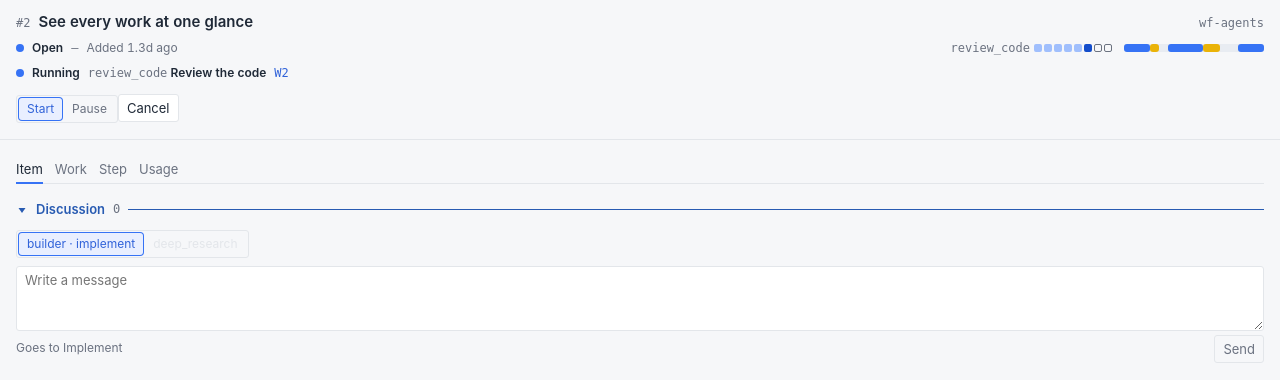
Test: the panel of the item selected › sends what the owner does once: its buttons wait while it is under way
Later steps or results of the test are not shown.
Click the button "Pause" at (90, 109), box [64,98,115,120]
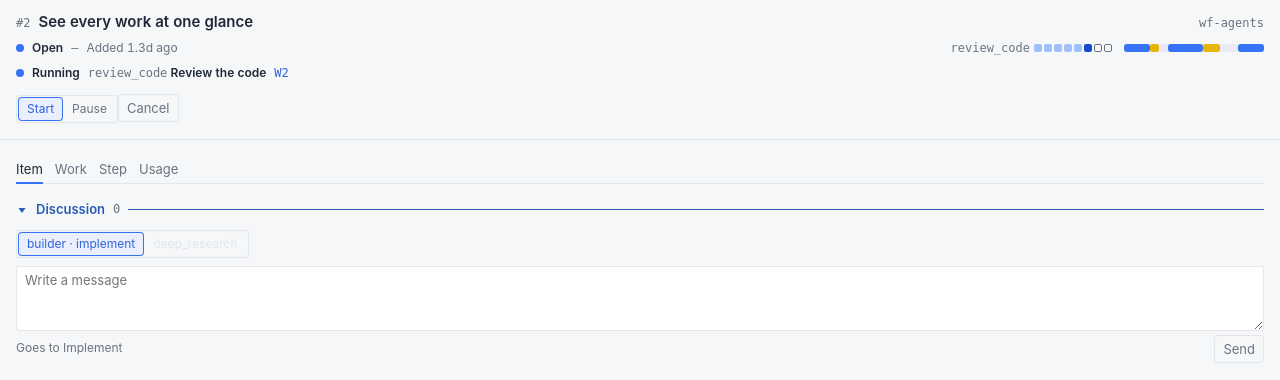
Click the button "Pause" at (90, 109), box [64,98,115,120]
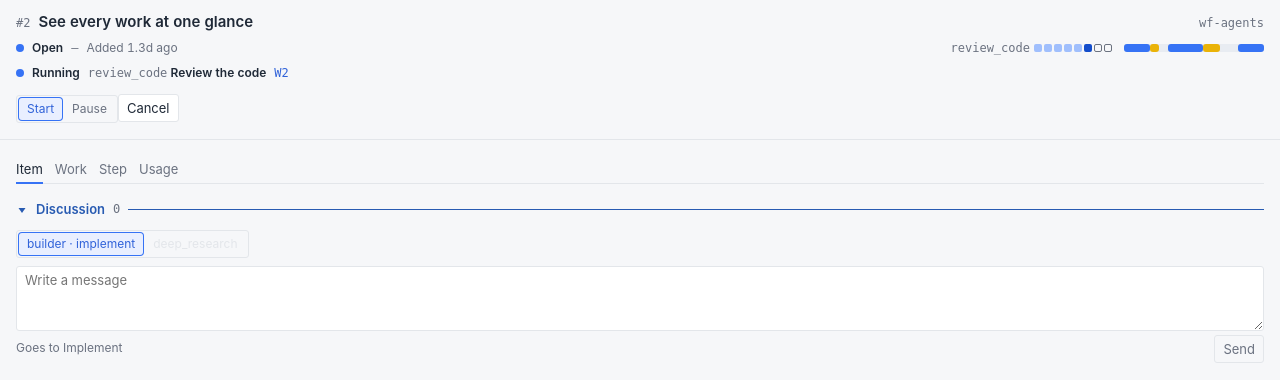
Now the button "Cancel" is enabled, box [118,94,178,122]
